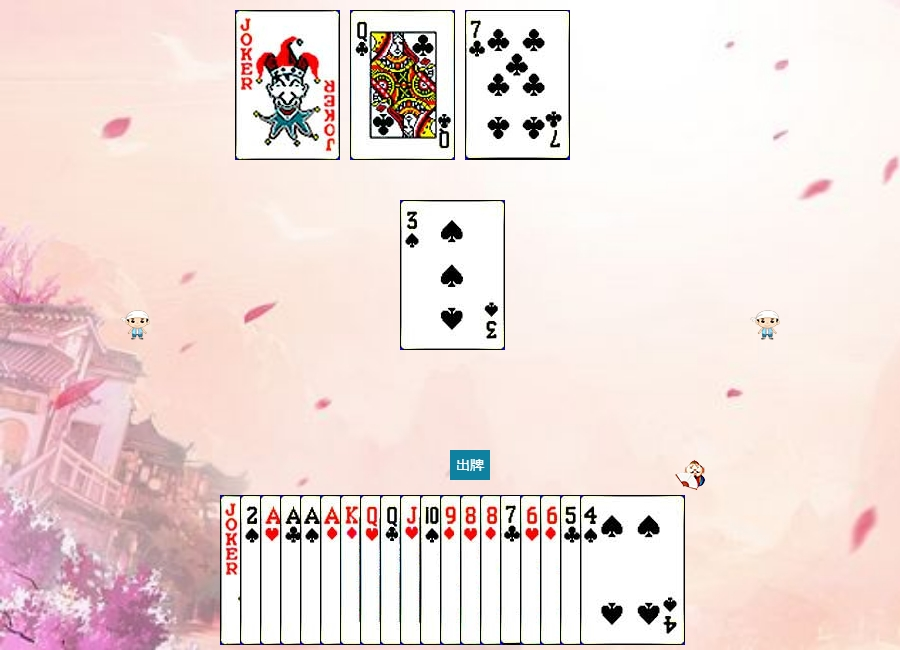10~4: (420, 495, 525, 645)
11~3: (400, 495, 505, 645)
12~2: (350, 10, 455, 160), (380, 495, 485, 645)
12~3: (360, 495, 465, 645)
13~1: (340, 495, 445, 645)
14~1: (320, 495, 425, 645)
14~2: (280, 495, 385, 645)
14~3: (260, 495, 365, 645)
14~4: (300, 495, 405, 645)
15~4: (240, 495, 345, 645)
18~4: (235, 10, 340, 160), (220, 495, 325, 645)
3~4: (400, 200, 505, 350)
4~4: (580, 495, 685, 645)
5~2: (560, 495, 665, 645)
6~1: (540, 495, 645, 645)
6~3: (520, 495, 625, 645)
7~2: (465, 10, 570, 160), (500, 495, 605, 645)
8~1: (480, 495, 585, 645)
8~3: (460, 495, 565, 645)
9~1: (440, 495, 545, 645)
